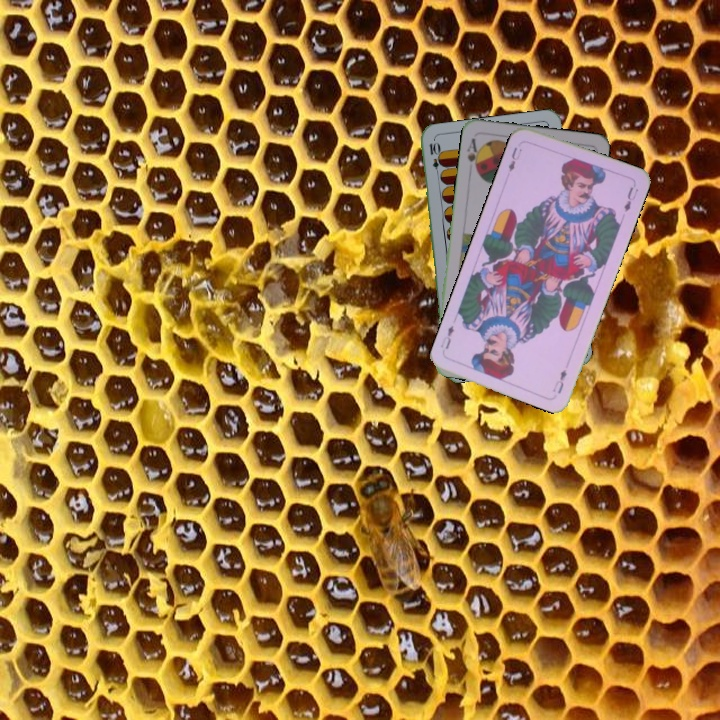E10: (425, 138, 443, 179)
EU: (549, 365, 569, 397), (504, 143, 524, 174)
SA: (463, 134, 483, 174)
